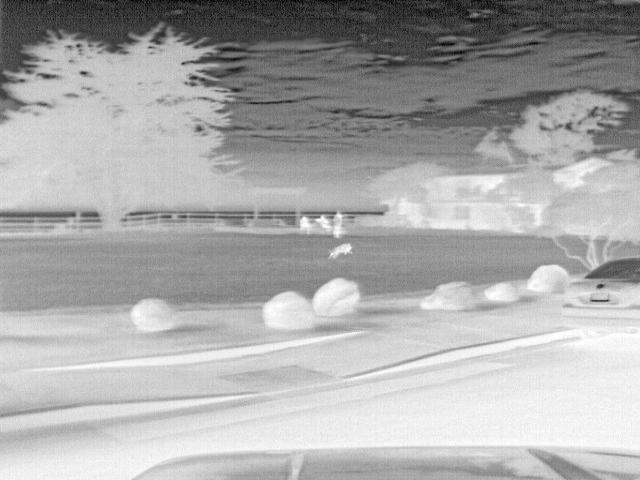car: (559, 254, 640, 342)
dog: (328, 241, 353, 260)
person: (331, 208, 346, 242), (315, 214, 331, 234), (299, 215, 314, 235)
